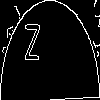Z: (25, 25, 40, 70)
